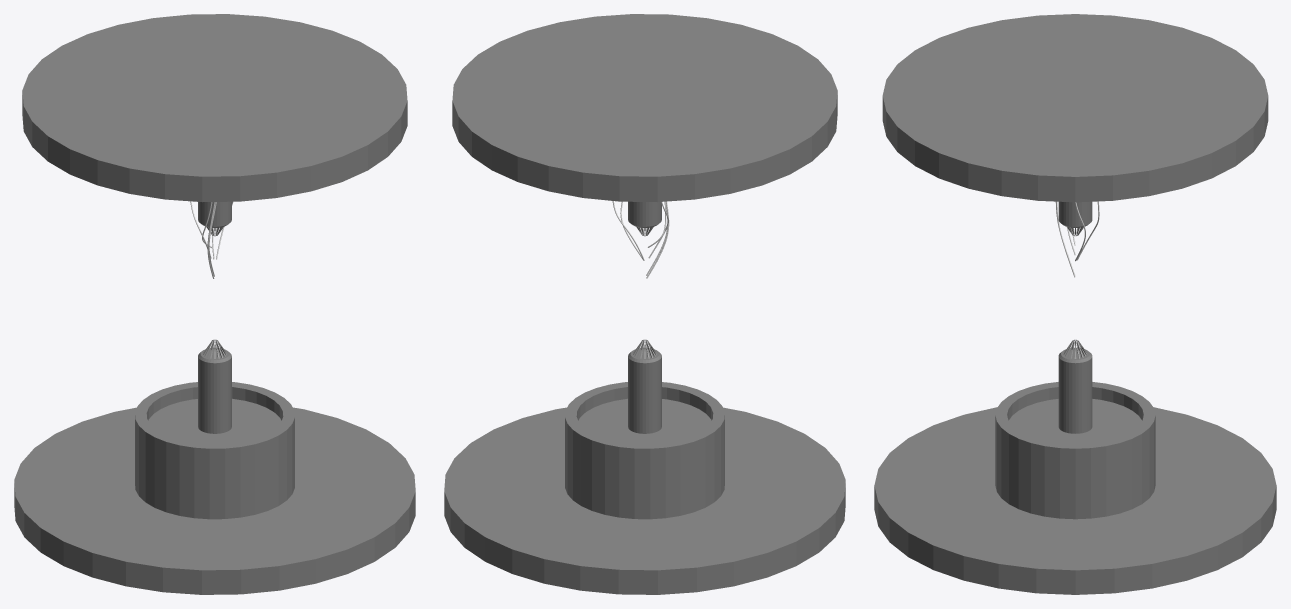
Rendered from Stage.fbx.
The picture shows the model from 3 angles, left to right: view 1: azimuth 30°, elevation 25°; view 2: azimuth 150°, elevation 25°; view 3: azimuth 270°, elevation 25°; orthographic projection.
Visible parts, largest first — view 1: Stage, ShowCaseU, ShowCaseL, Cable; view 2: Stage, ShowCaseU, ShowCaseL, Cable; view 3: Stage, ShowCaseU, ShowCaseL.
Part boxes in pixels (x1,y1,x2,y2): Stage: [14, 382, 415, 594]; ShowCaseU: [22, 14, 407, 236]; ShowCaseL: [198, 339, 231, 433]; Cable: [190, 201, 233, 278]; Stage: [444, 382, 845, 594]; ShowCaseU: [452, 14, 837, 236]; ShowCaseL: [628, 339, 661, 433]; Cable: [612, 201, 669, 278]; Stage: [874, 382, 1276, 594]; ShowCaseU: [882, 14, 1268, 235]; ShowCaseL: [1058, 339, 1092, 433].
Bounding box in the file's own units: 309 × 352 × 309.
